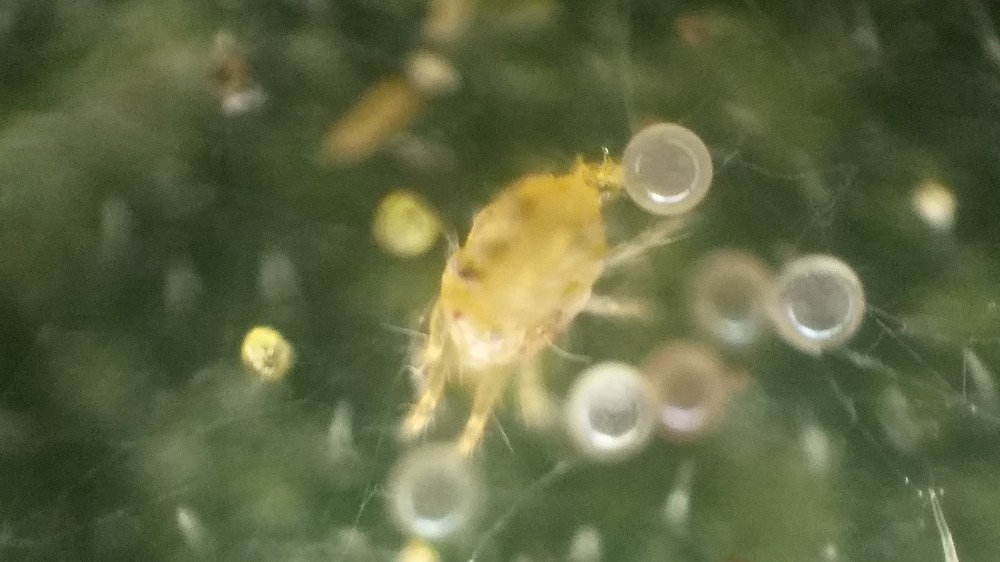Aracnido Rojo: (369, 129, 656, 463)
